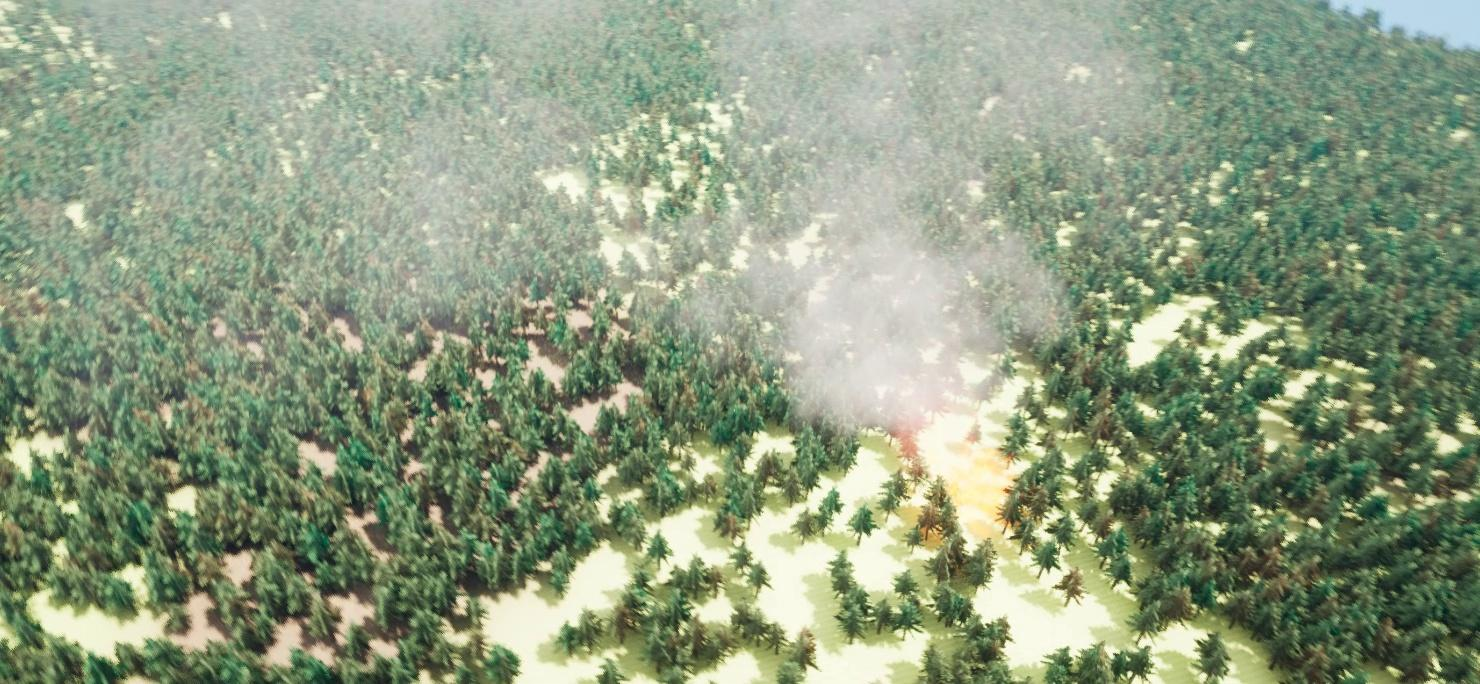smoke: (125, 0, 1179, 436)
